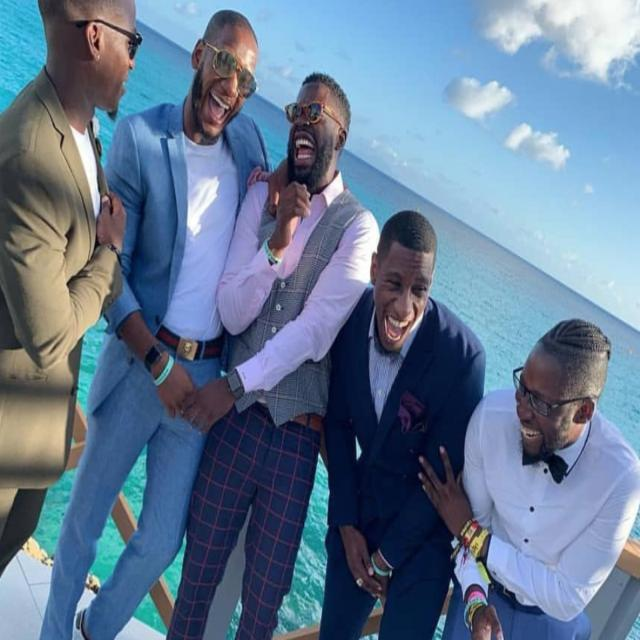sem_oculos: (495, 352, 609, 421), (78, 5, 155, 60), (199, 34, 260, 93), (371, 260, 438, 298), (282, 95, 350, 132)
